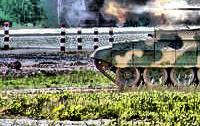tanks: (92, 29, 200, 88)
